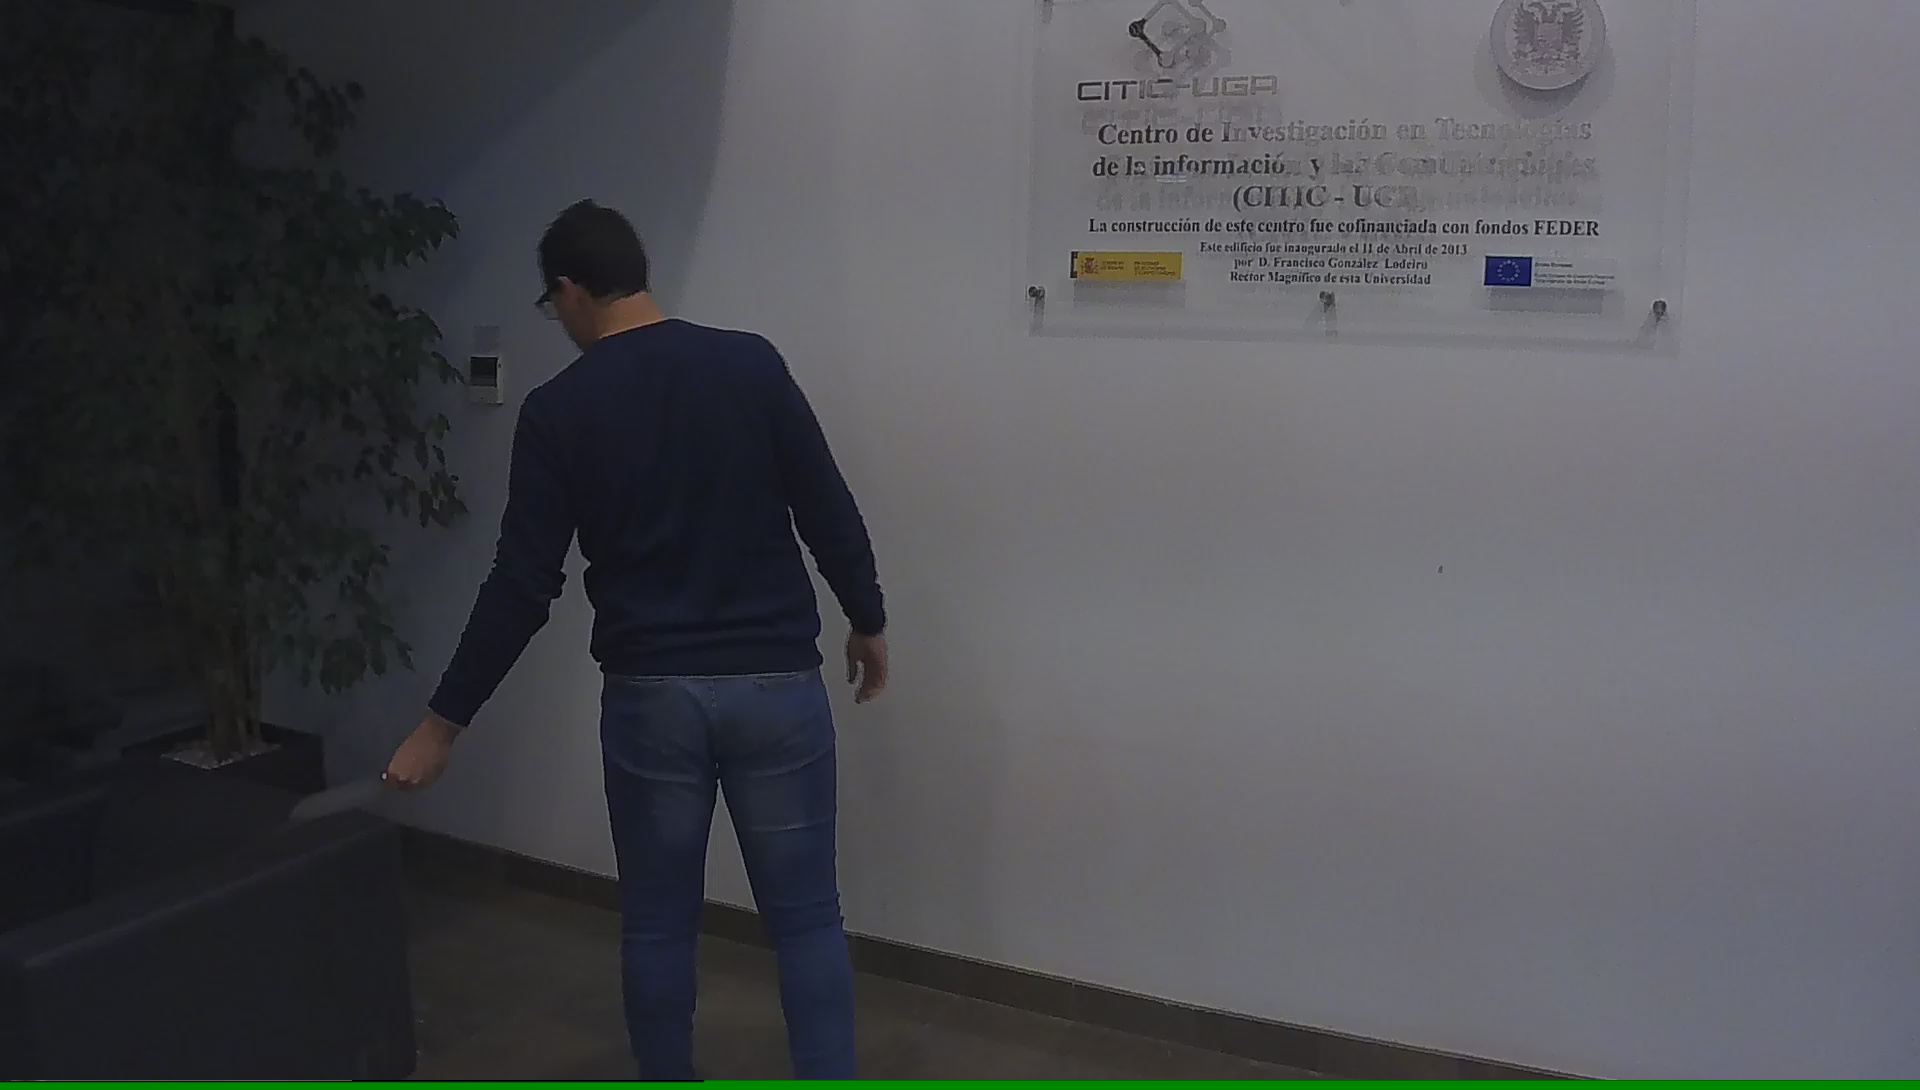knife: (280, 747, 447, 833)
